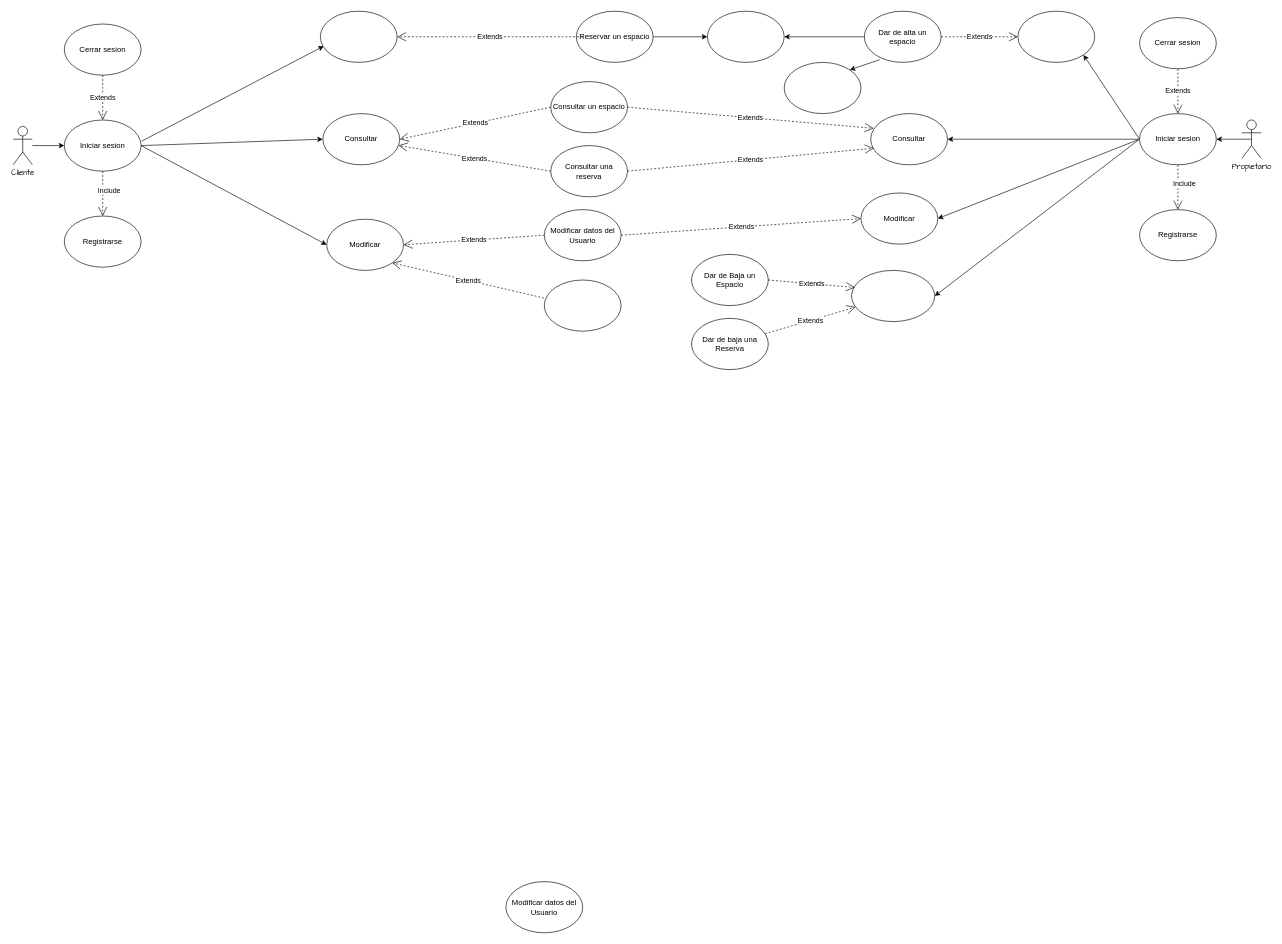
Image size: 1282x944. Some labels were removed from this diagram. Here are the shapes that lost their labels. From the top down, the box of each, then its label:
(320, 11, 397, 62): Reservar(Dar de Alta)
(707, 11, 784, 62): añadir un extra
(1017, 11, 1095, 62): Crear(Dar de Alta)
(784, 62, 861, 114): Añadir El tipo de espacio
(544, 279, 621, 331): Modifica la reserva
(851, 270, 935, 322): Cancelar (Dar de Baja)
